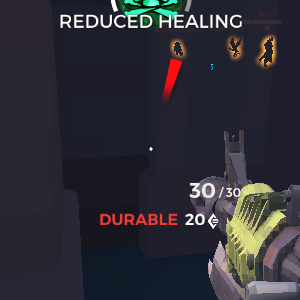model: (261, 33, 276, 69), (229, 38, 240, 60), (173, 39, 186, 55)
